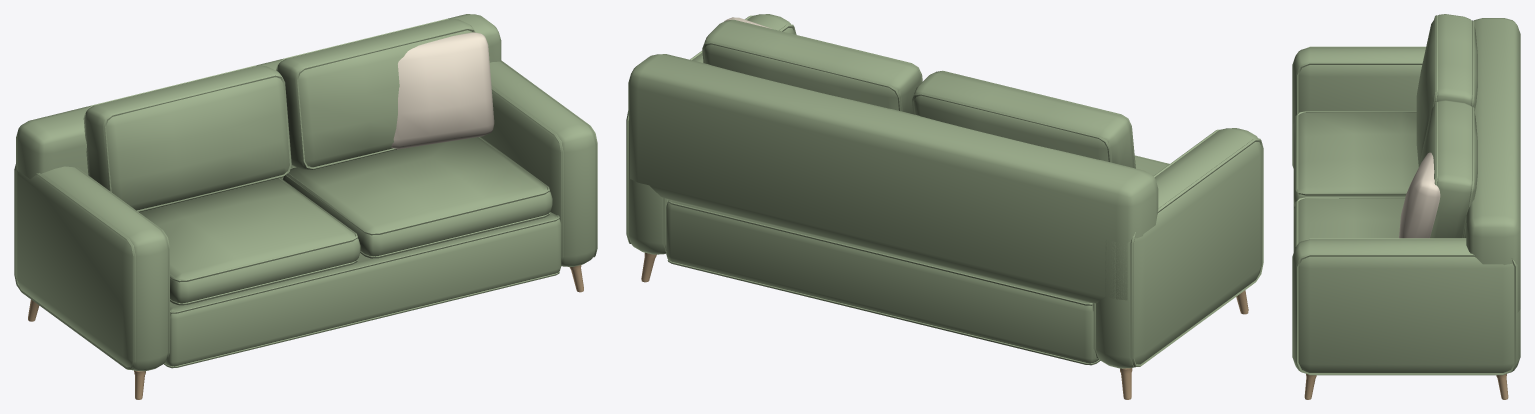
File: loveseat.glb
The picture shows the model from 3 angles, left to right: view 1: azimuth 30°, elevation 25°; view 2: azimuth 150°, elevation 25°; view 3: azimuth 270°, elevation 25°; orthographic projection. The views are drawn at different scales.
Visible parts, largest first — view 1: sofa, seat; view 2: sofa; view 3: sofa, seat.
Boxes of the visible parts, box(x1,y1,x2,y2) form: sofa: box(14, 14, 597, 399); seat: box(139, 136, 552, 305); sofa: box(626, 14, 1263, 399); sofa: box(1292, 14, 1520, 399); seat: box(1293, 111, 1418, 251).
Size of the model in its own units: 1.84 by 0.8331 by 0.84.
